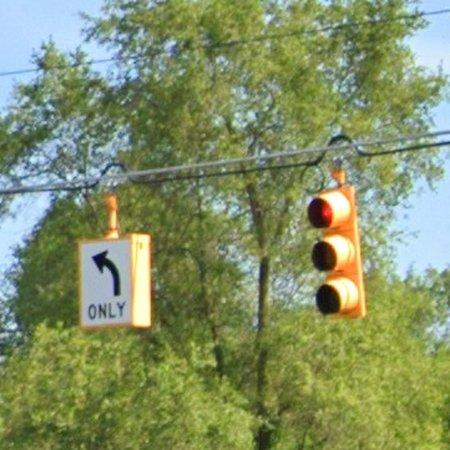traffic lights: (309, 170, 367, 318)
